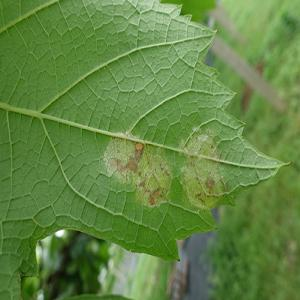Folha: (0, 0, 291, 298)
Fungo: (102, 133, 172, 207), (180, 123, 226, 216), (240, 58, 266, 114), (204, 173, 215, 195), (127, 156, 137, 172), (134, 141, 143, 151)
